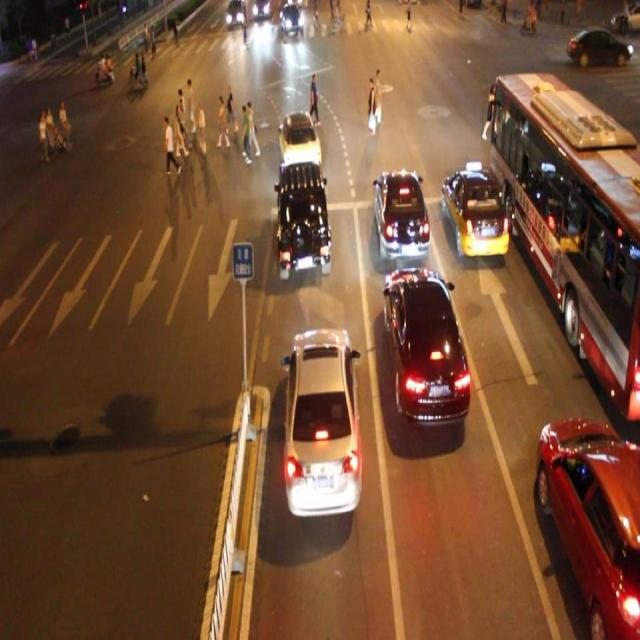car: (534, 417, 640, 640), (285, 327, 360, 512), (383, 268, 469, 422), (278, 162, 331, 277), (441, 170, 508, 260), (372, 167, 429, 264), (278, 110, 320, 171), (279, 1, 305, 37)
van: (491, 71, 640, 418)
